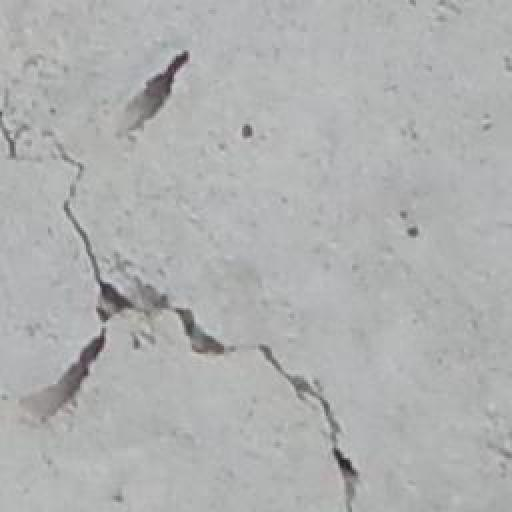spalling: (2, 105, 382, 505)
